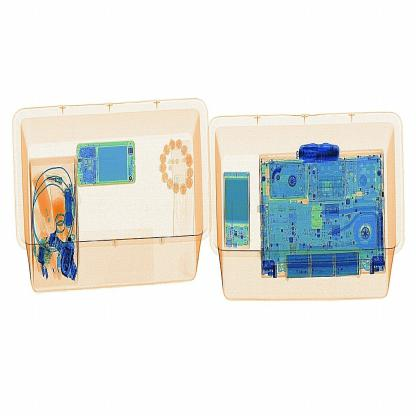scissors: (294, 134, 350, 176)
